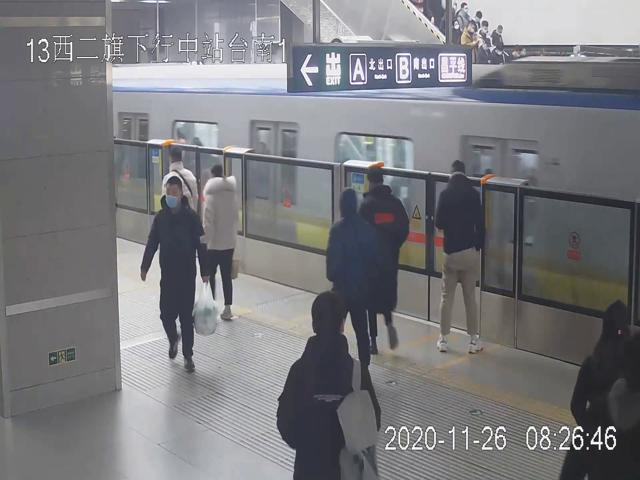person: (276, 291, 381, 480), (141, 176, 210, 373), (435, 159, 487, 355), (326, 188, 378, 375), (361, 164, 409, 357), (201, 164, 239, 320)
